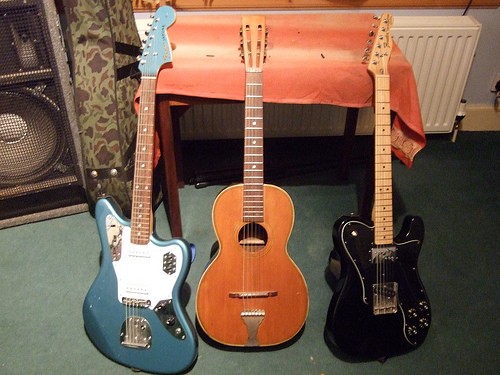guitar: (193, 12, 312, 350)
